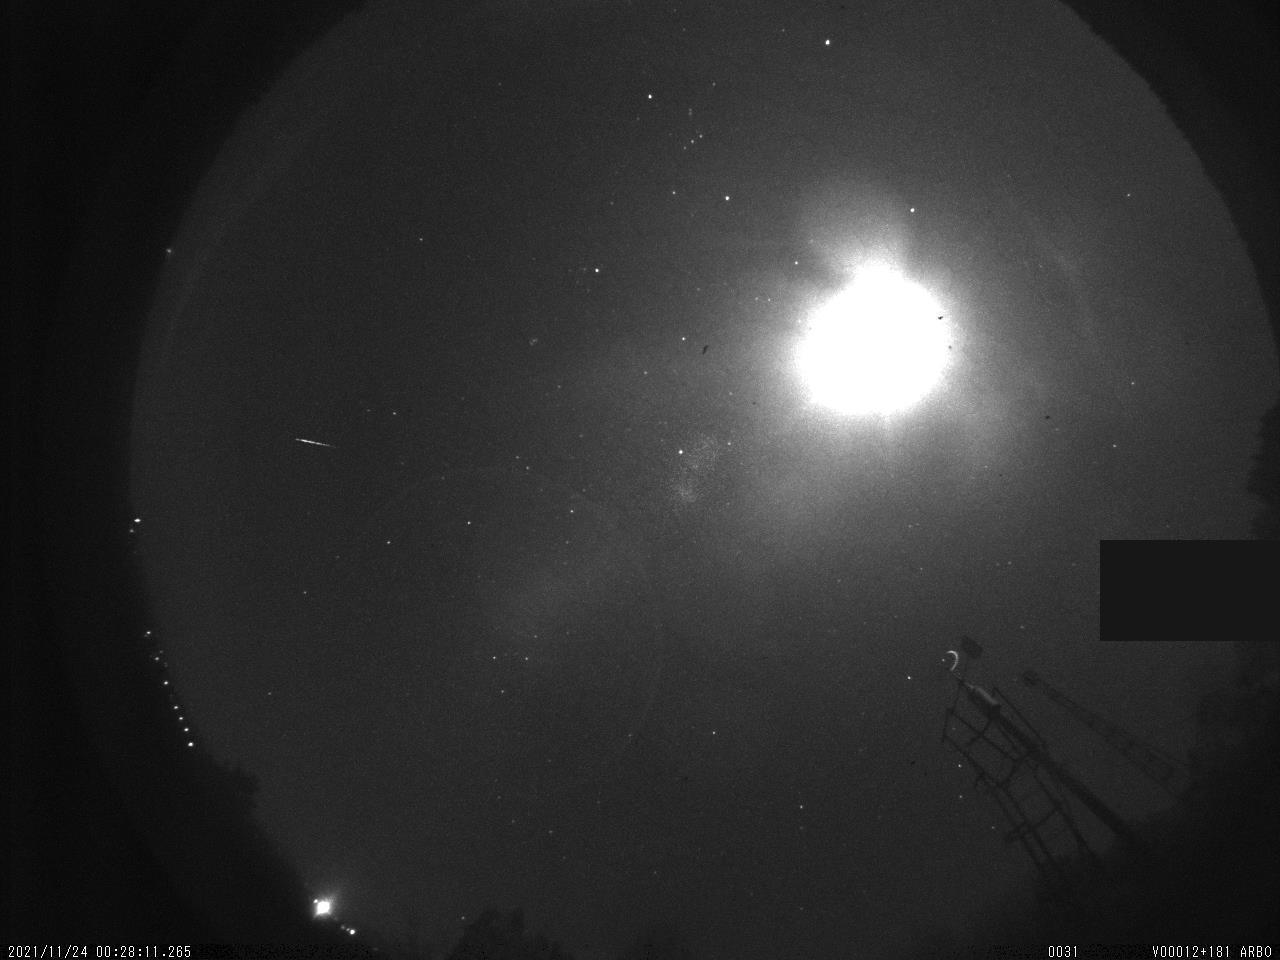Meteor: (291, 431, 342, 454)
